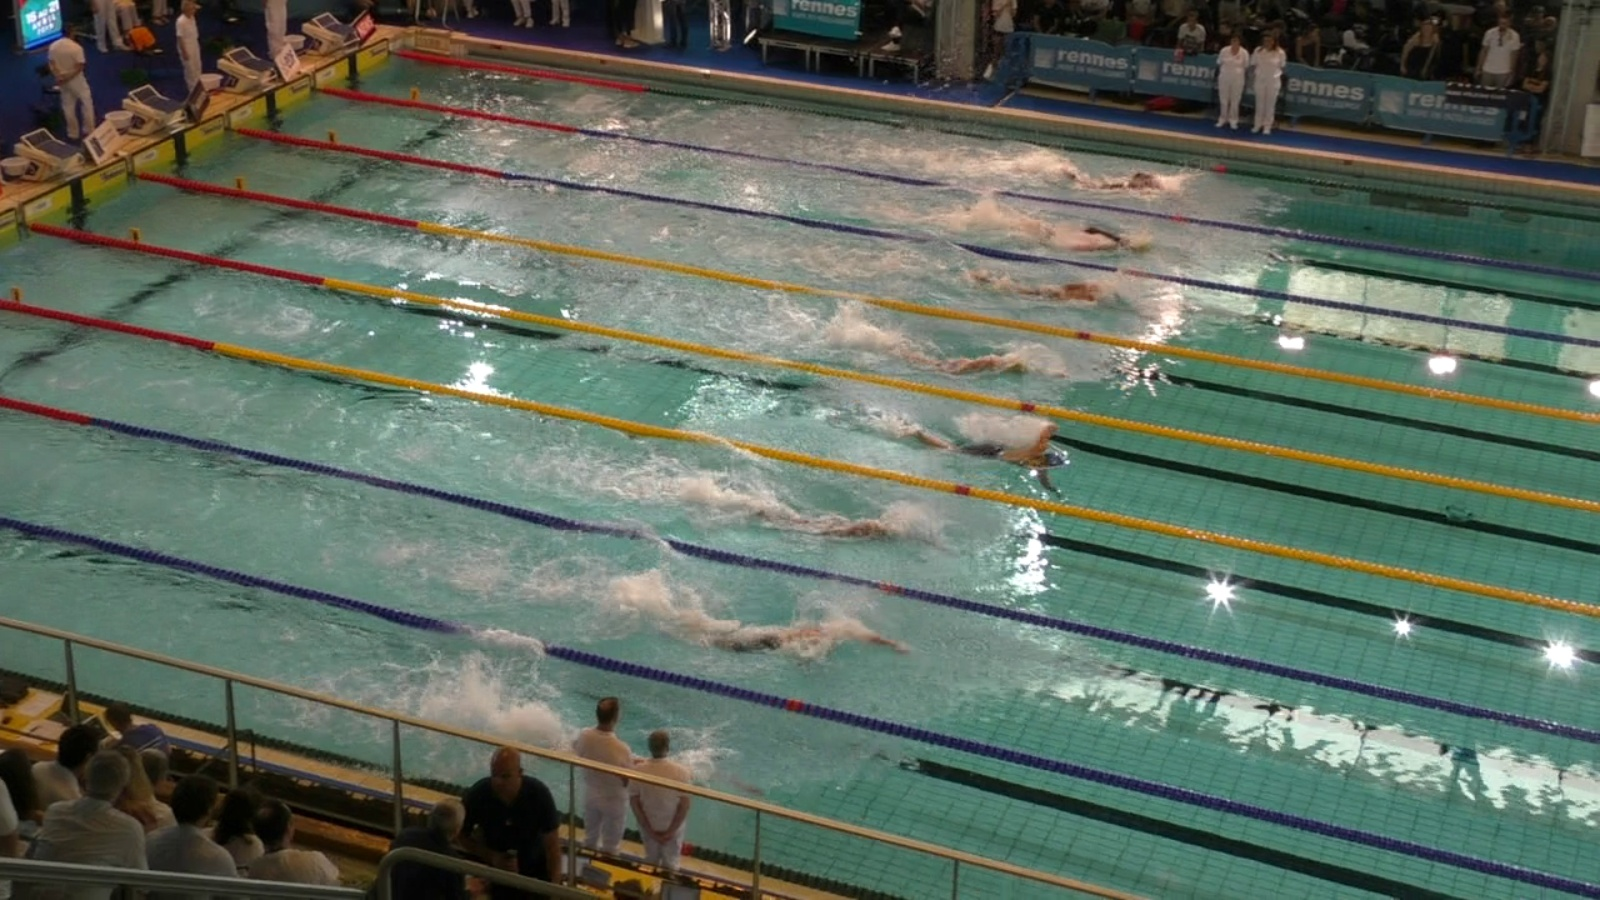swimmerwdd: (511, 720, 767, 812), (667, 596, 905, 669), (890, 413, 1075, 501), (751, 508, 969, 555), (901, 333, 1070, 387), (965, 268, 1145, 315), (973, 215, 1162, 257), (1054, 162, 1181, 201)
